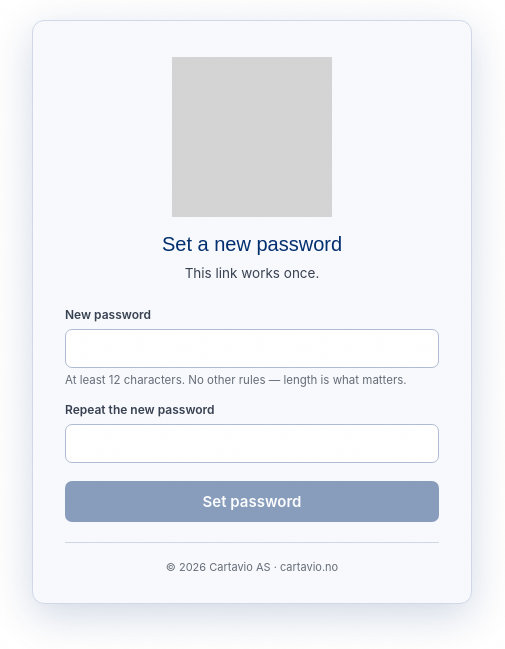
Test case: <ResetScreen> › redeems the token and says the account is signed out everywhere
Step 1. Type "correct-horse-battery" into the password field labelled "New password" → {"x": 252, "y": 349}, box [65,329,439,368]
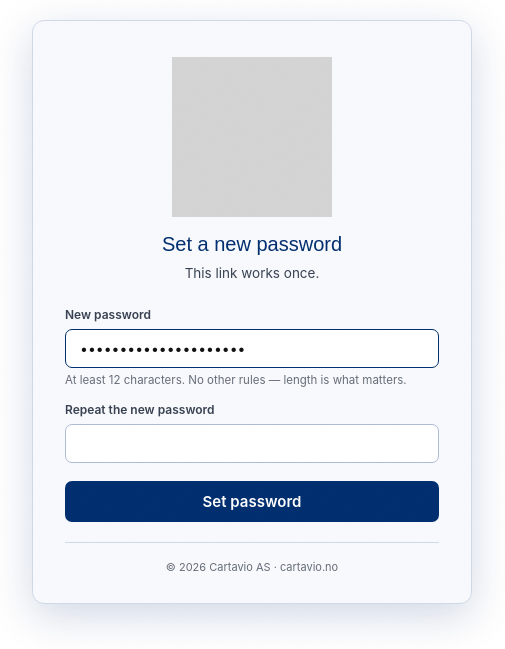
Step 2. Type "correct-horse-battery" into the password field labelled "Repeat the new password" → {"x": 252, "y": 443}, box [65,424,439,463]
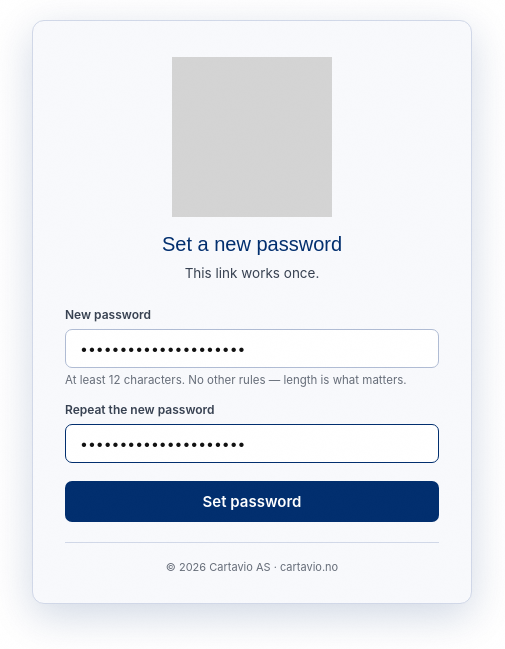
Step 3. Click the button "Set password" → {"x": 252, "y": 501}, box [65,481,439,522]
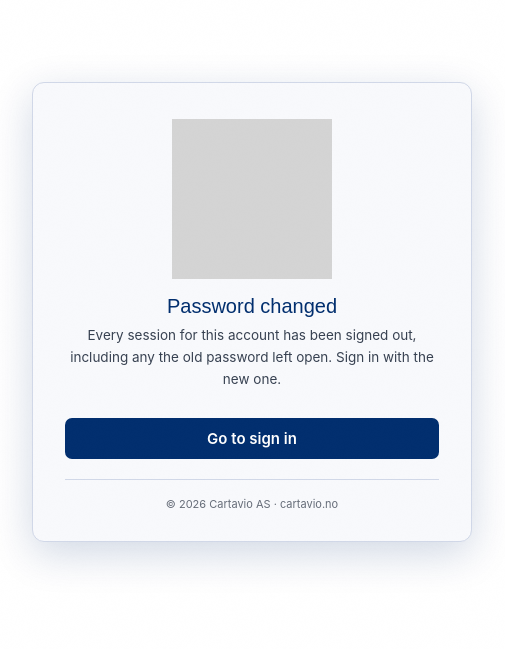
Now the text "signed out" is shown, box [70,327,434,387]
